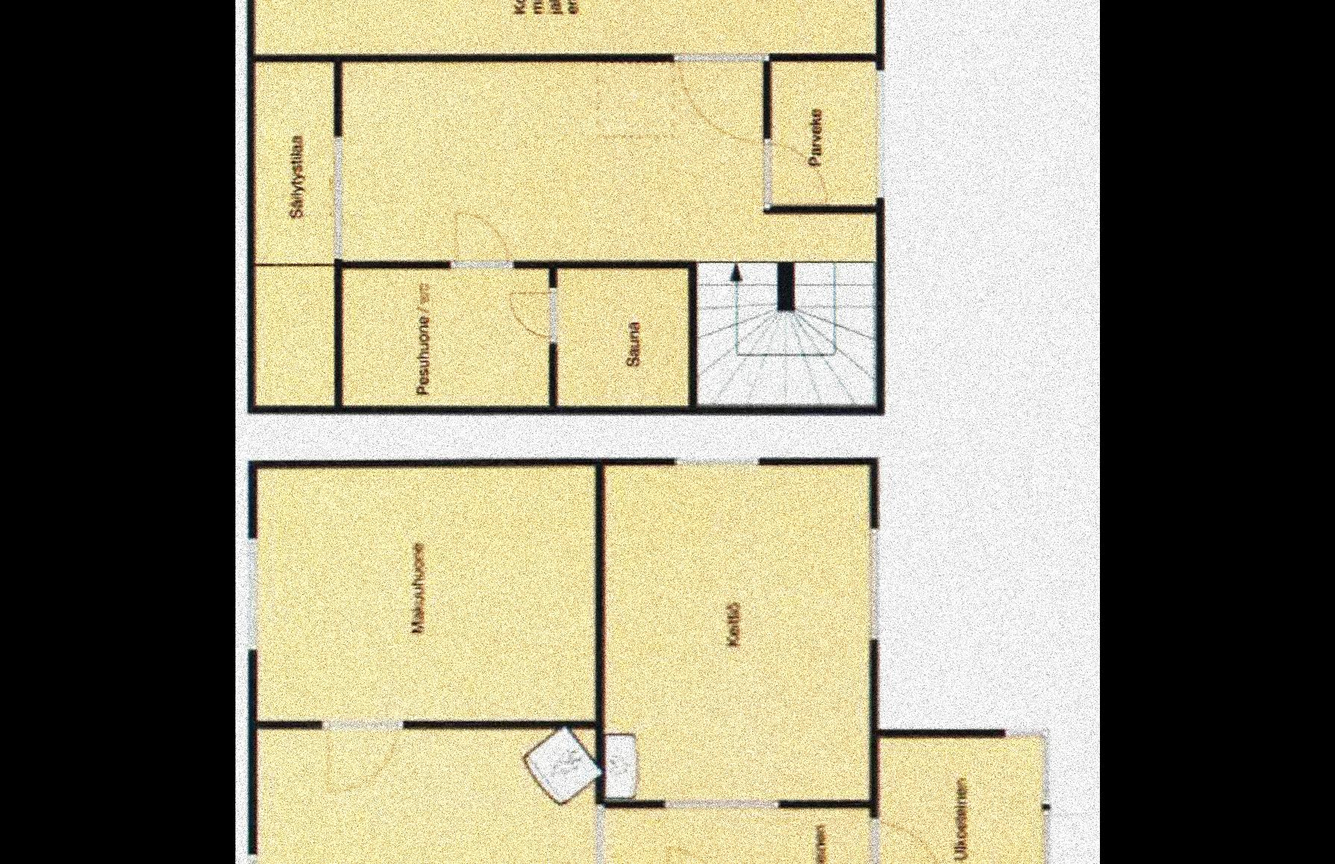door: (672, 55, 766, 145), (325, 719, 399, 796), (763, 138, 831, 209), (863, 817, 945, 864), (455, 209, 512, 268), (1046, 806, 1100, 864), (508, 291, 560, 333), (658, 839, 723, 864)
window: (866, 529, 886, 639), (876, 66, 890, 195), (674, 451, 757, 467), (243, 545, 255, 646), (1005, 727, 1043, 737)
zone: (602, 466, 868, 798), (254, 468, 593, 719), (342, 66, 760, 259), (254, 731, 593, 864), (251, 0, 876, 52), (340, 271, 544, 405), (698, 267, 875, 401), (871, 731, 1045, 864), (760, 63, 874, 259), (559, 271, 684, 403), (597, 805, 868, 864), (253, 66, 328, 262), (250, 262, 333, 407)
